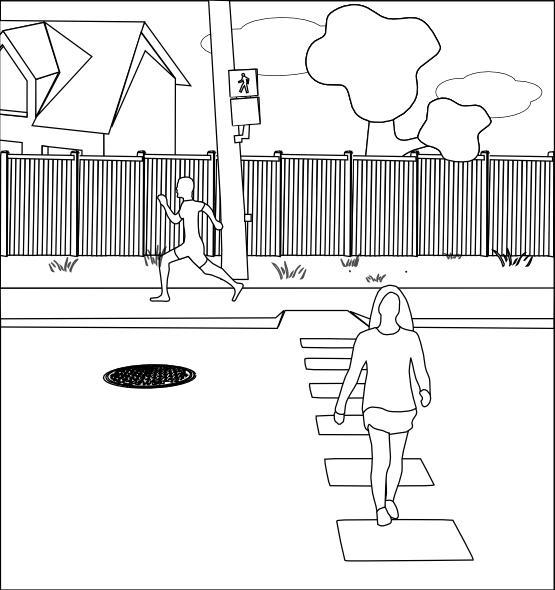person: (332, 282, 439, 530), (148, 172, 249, 306)
